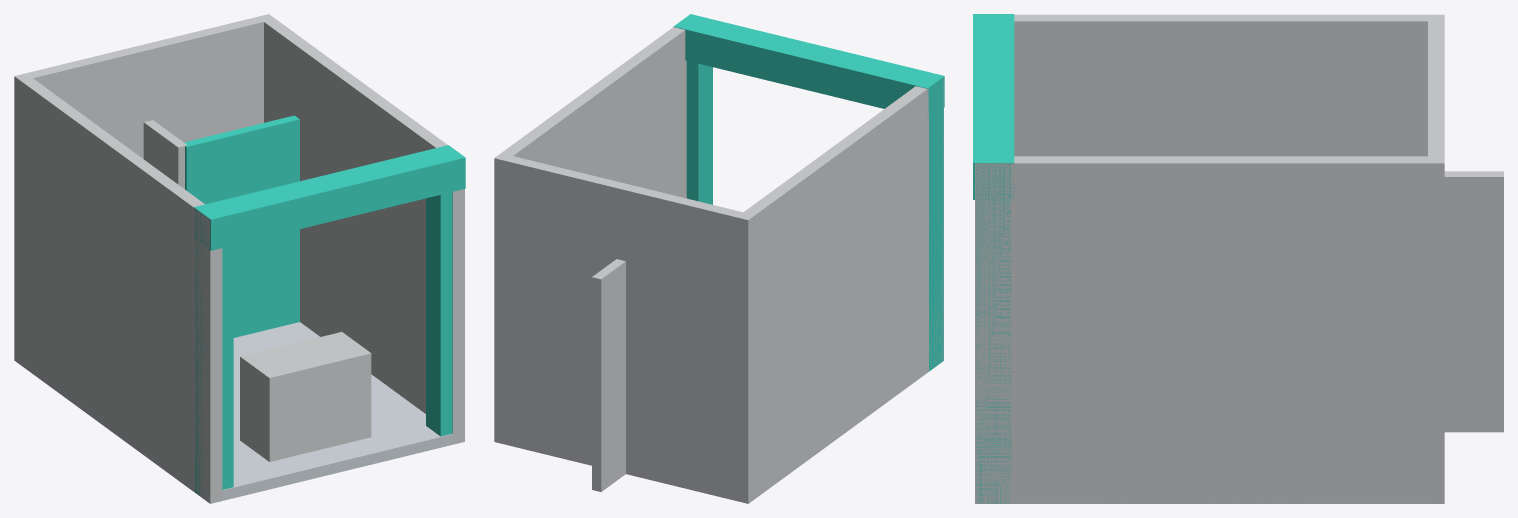
The picture shows the model from 3 angles, left to right: view 1: azimuth 30°, elevation 25°; view 2: azimuth 150°, elevation 25°; view 3: azimuth 270°, elevation 25°; orthographic projection. The views are drawn at different scales.
Parts seen in each view (by area): view 1: Exhibition Booth Concept; view 2: Exhibition Booth Concept; view 3: Exhibition Booth Concept.
Part boxes in pixels (x1,y1,x2,y2): Exhibition Booth Concept: (14, 14, 465, 503); Exhibition Booth Concept: (494, 14, 944, 503); Exhibition Booth Concept: (973, 14, 1503, 503).
Bounding box in the file's own units: 3 × 3.2 × 4.52.
